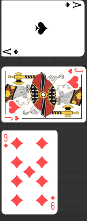8D: (3, 132, 10, 149)
9D: (50, 194, 56, 211)
AC: (3, 46, 20, 55)
